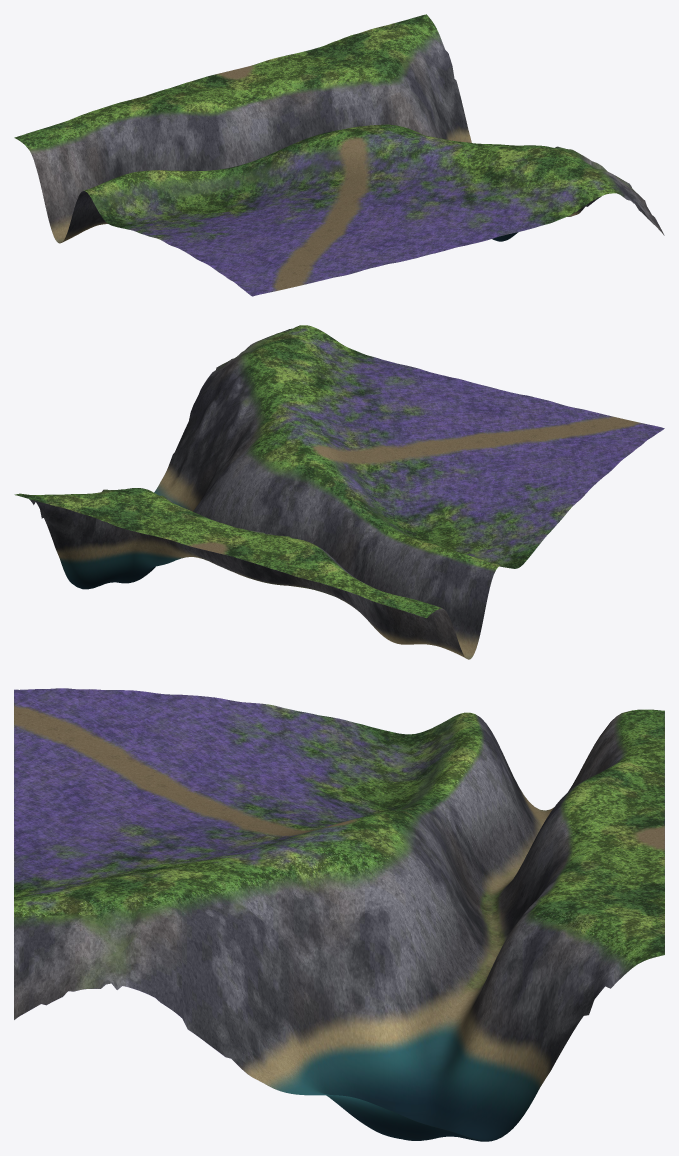
The picture shows the model from 3 angles, top to bottom: view 1: azimuth 30°, elevation 25°; view 2: azimuth 150°, elevation 25°; view 3: azimuth 270°, elevation 25°; orthographic projection. The views are drawn at different scales.
Visible parts, largest first — view 1: t128_064; view 2: t128_064; view 3: t128_064.
Part boxes in pixels (x1,y1,x2,y2): t128_064: [14, 14, 664, 296]; t128_064: [14, 325, 664, 659]; t128_064: [14, 688, 664, 1141].
Bounding box in the file's own units: 64 × 24.28 × 64.
Materials: 1 (1 with a texture image).
